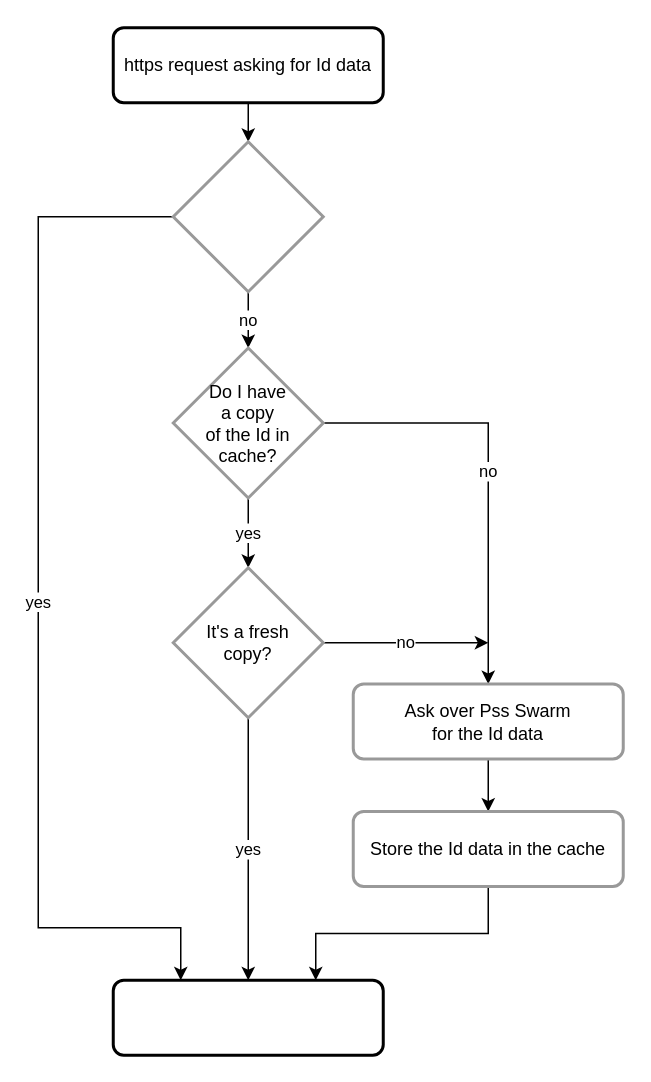
This 651x1082 diagram has some shape labels left out. The shapes that lost their labels are listed below. From the top down, each one's box as (x1, y1, x2, y2) in pixels, then its label:
(171, 140, 324, 292): I'm the Id_Agent of the Id?
(111, 978, 384, 1056): return the Id data to the https request
